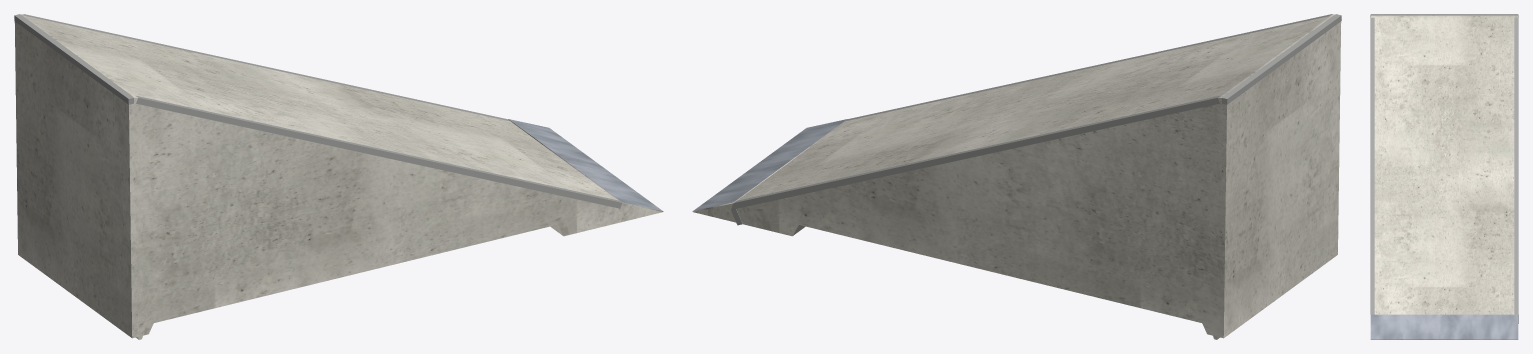
File: bank-150.gltf
The picture shows the model from 3 angles, left to right: view 1: azimuth 30°, elevation 25°; view 2: azimuth 150°, elevation 25°; view 3: azimuth 270°, elevation 25°; orthographic projection. The views are drawn at different scales.
Visible parts, largest first — view 1: SK0516_Bank_150.001; view 2: SK0516_Bank_150.001; view 3: SK0516_Bank_150.001.
Boxes of the visible parts, left/top/right/bottom form: SK0516_Bank_150.001: left=14, top=14, right=663, bottom=339; SK0516_Bank_150.001: left=692, top=14, right=1341, bottom=339; SK0516_Bank_150.001: left=1370, top=14, right=1518, bottom=339.
Size of the model in its own units: 3.37 by 1.48 by 1.25.
3 materials, 3 textured.
